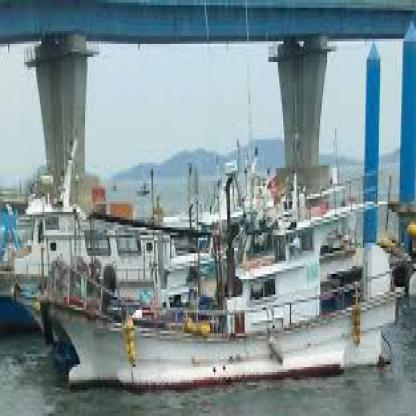fish-b: (43, 230, 406, 398)
